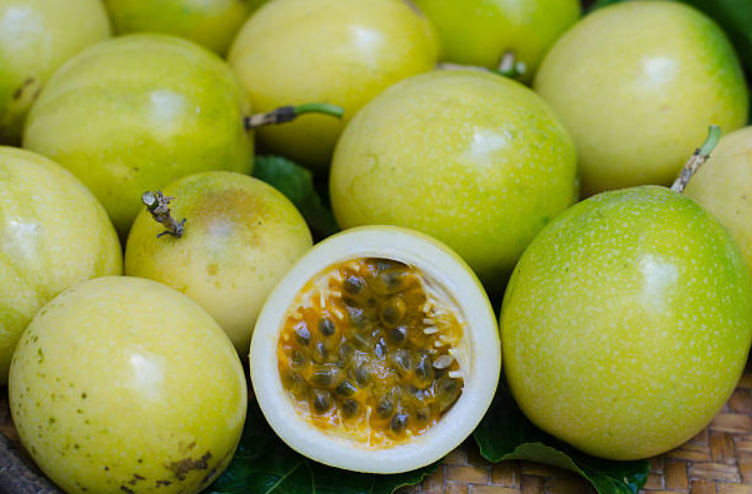maracuya: (494, 181, 752, 465), (323, 65, 587, 284), (5, 274, 254, 494), (20, 27, 263, 241), (120, 163, 317, 357)
